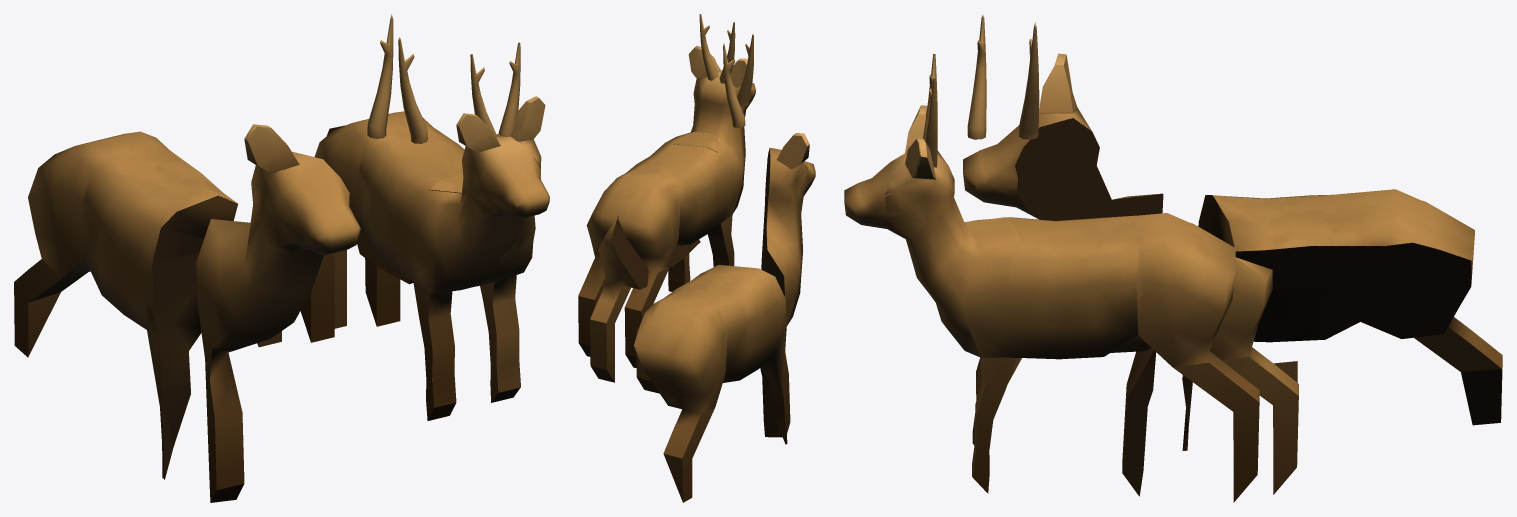
The model's file is Ree.fbx.
3 views of the same model, side by side, from view 1: azimuth 30°, elevation 25°; view 2: azimuth 150°, elevation 25°; view 3: azimuth 270°, elevation 25° (orthographic). The views are drawn at different scales.
Parts seen in each view (by area): view 1: Ree_Whole, Shard2, Shard1, Shard6, Shard3, Shard5, Shard4; view 2: Ree_Whole, Shard2, Shard1, Shard3, Shard5, Shard6, Shard4, Shard7; view 3: Ree_Whole, Shard2, Shard1, Shard3, Shard6, Shard4, Shard5.
Part boxes in pixels (left/top/right/bottom): Ree_Whole: left=300, top=42, right=549, bottom=420; Shard2: left=14, top=131, right=237, bottom=479; Shard1: left=196, top=124, right=360, bottom=502; Shard6: left=429, top=96, right=545, bottom=402; Shard3: left=327, top=125, right=413, bottom=328; Shard5: left=367, top=14, right=393, bottom=138; Shard4: left=398, top=37, right=427, bottom=143; Ree_Whole: left=578, top=14, right=755, bottom=367; Shard2: left=634, top=265, right=787, bottom=502; Shard1: left=760, top=133, right=815, bottom=437; Shard3: left=590, top=215, right=700, bottom=382; Shard5: left=723, top=43, right=745, bottom=127; Shard6: left=673, top=45, right=719, bottom=284; Shard4: left=737, top=33, right=753, bottom=106; Shard7: left=636, top=328, right=659, bottom=393; Ree_Whole: left=844, top=54, right=1259, bottom=502; Shard2: left=1182, top=189, right=1502, bottom=450; Shard1: left=963, top=53, right=1163, bottom=496; Shard3: left=1111, top=256, right=1298, bottom=494; Shard6: left=885, top=138, right=1022, bottom=492; Shard4: left=967, top=14, right=986, bottom=139; Shard5: left=1018, top=22, right=1039, bottom=139.
Size of the model in its own units: 484 by 845 by 950.
